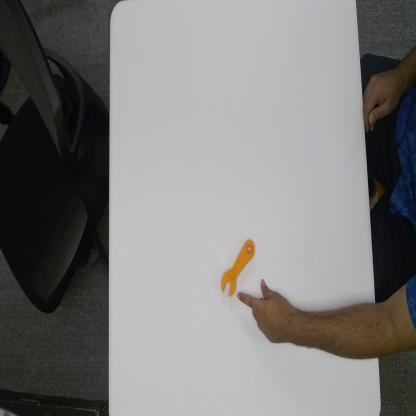Arm: (299, 295, 408, 364)
Hand: (235, 276, 294, 346)
Screwdriver: (218, 234, 256, 297)
